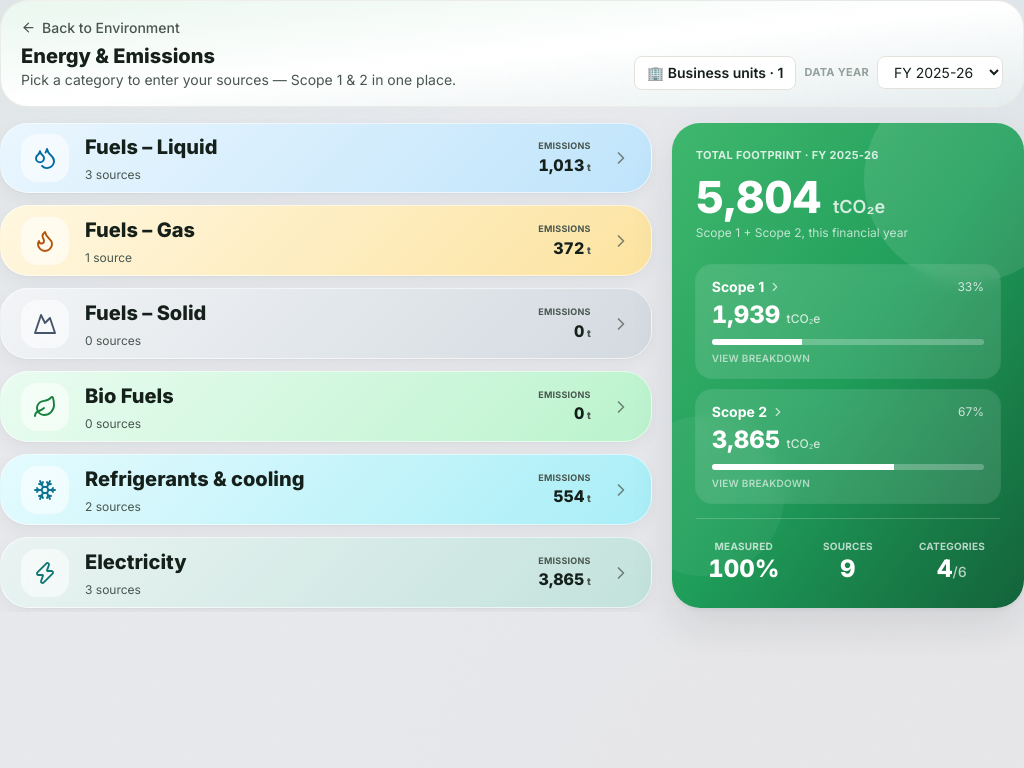
Scenario: ActivityDataTab — fuel entry shows all detail fields › fuel entry has two sections: Consumption and Asset details
The image size is (1024, 768).
Click the button "Fuels – Liquid": click(45, 158) [0,122,652,193]
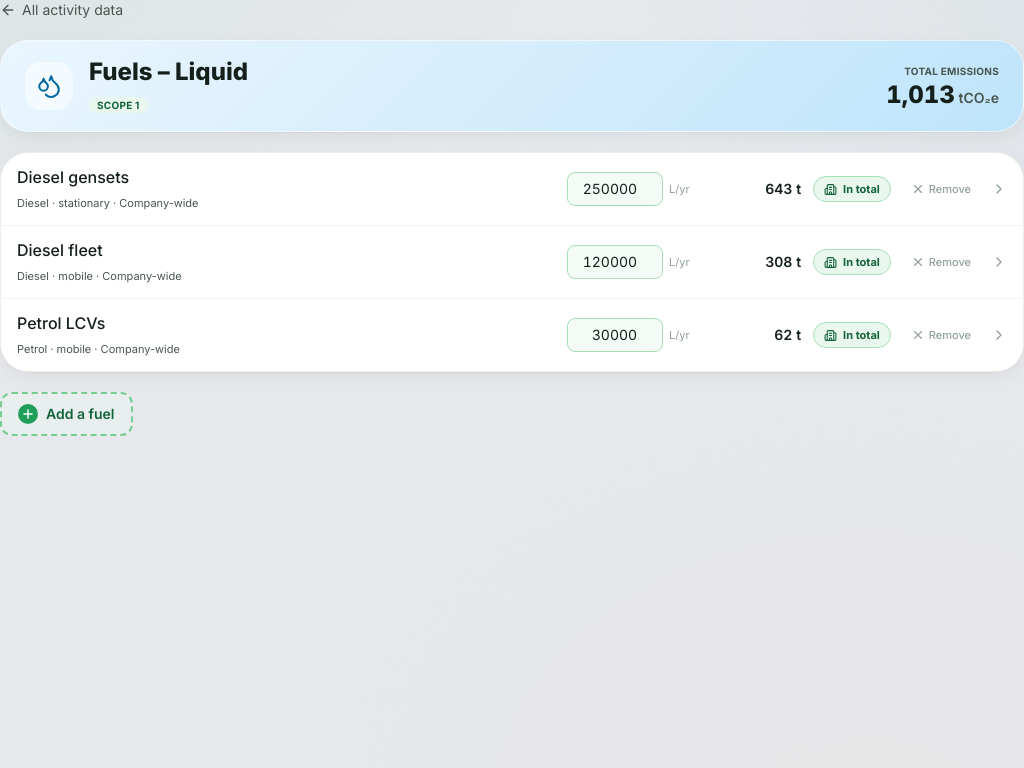
Click the button "Add a fuel": click(66, 414) [0,392,132,436]
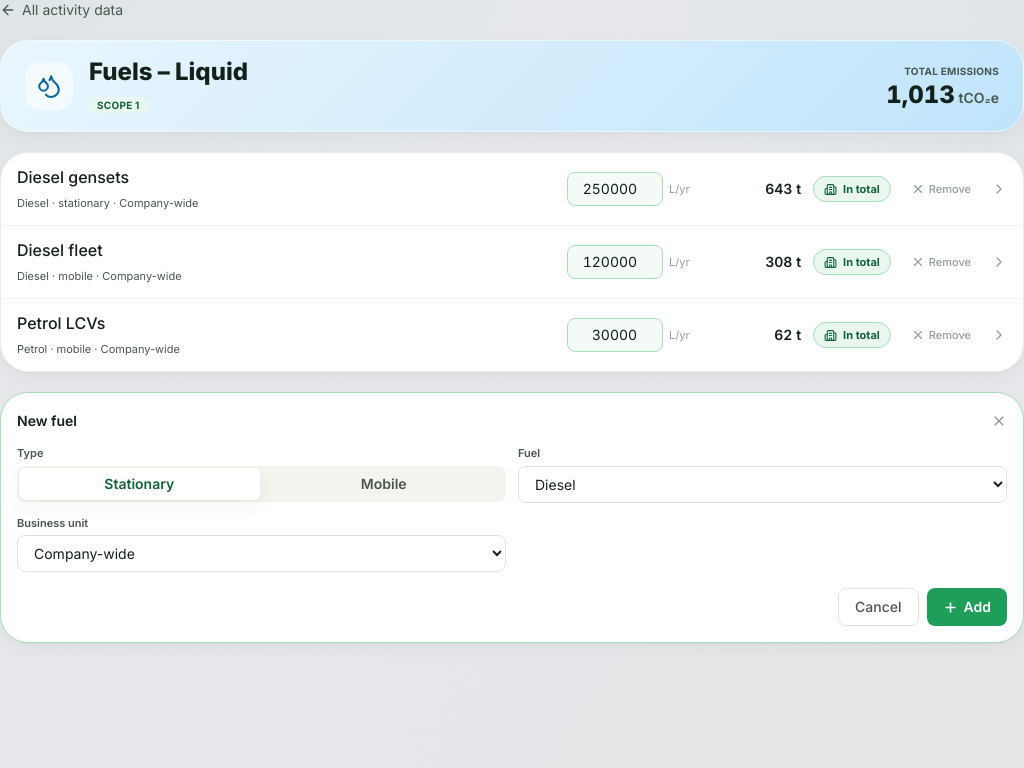
Click the button "Add": click(967, 607) [926,588,1007,626]
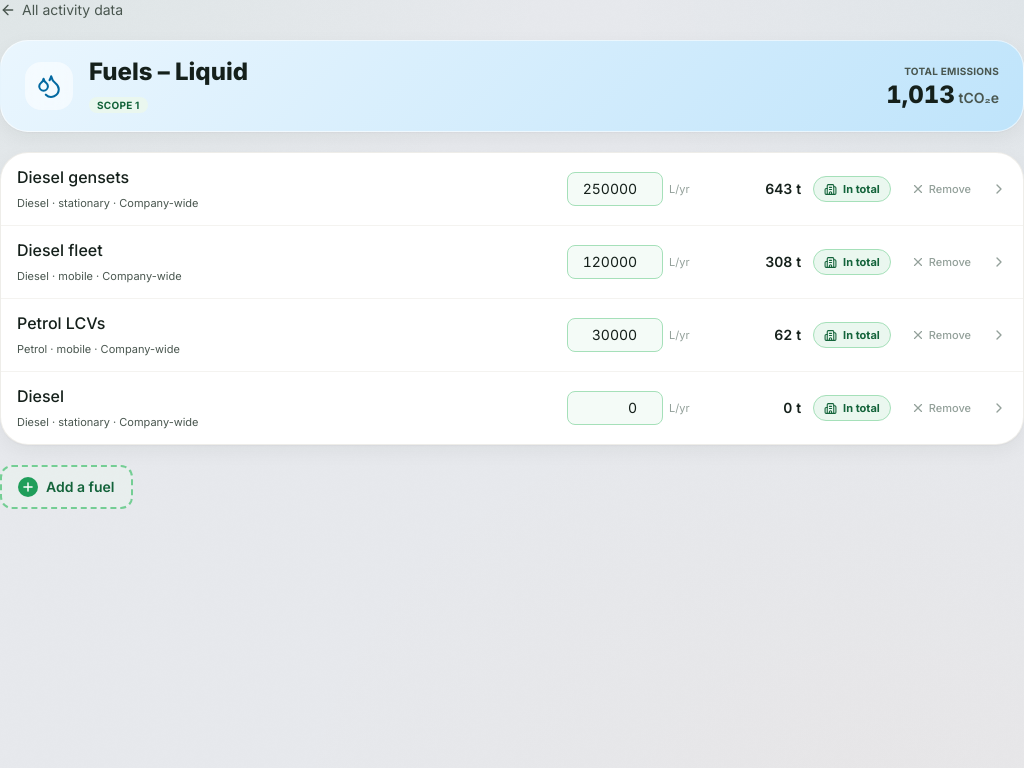
Click the text "Diesel": click(41, 396) [17,386,198,429]
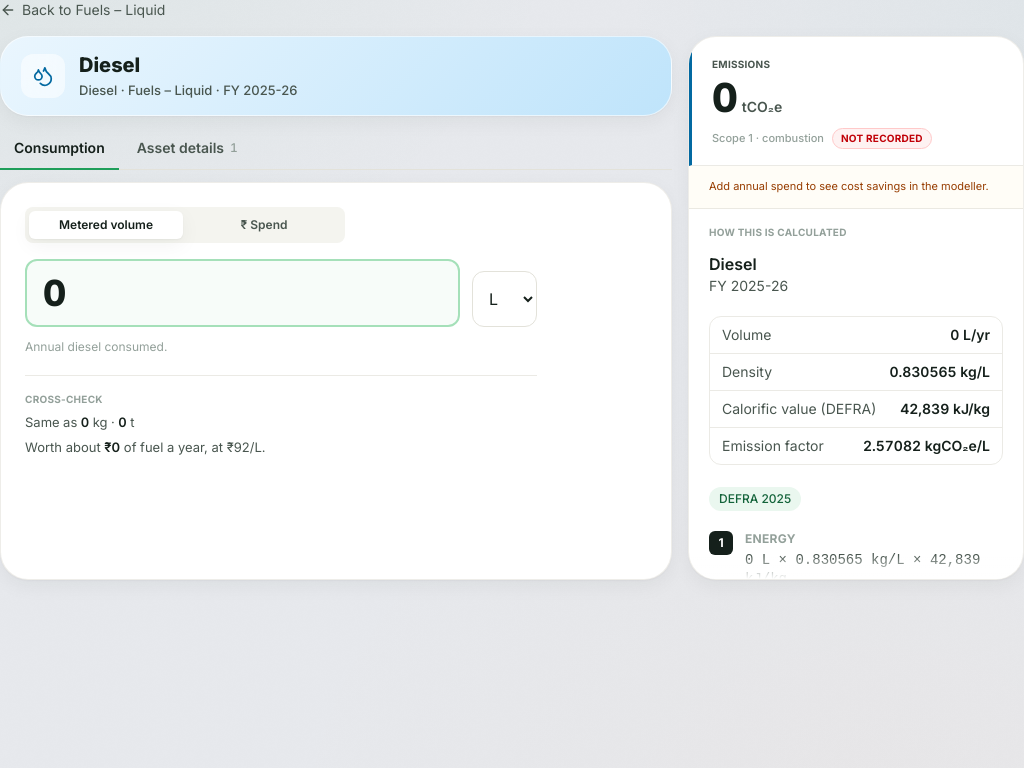
Check: the button "Metered volume" is shown, box [29,210,183,238]
Check: the tab "Consumption" is shown, box [0,128,119,170]
Check: the tab "Asset details 1" is shown
Click the tab "Asset details 1": click(187, 148) [123,128,252,170]
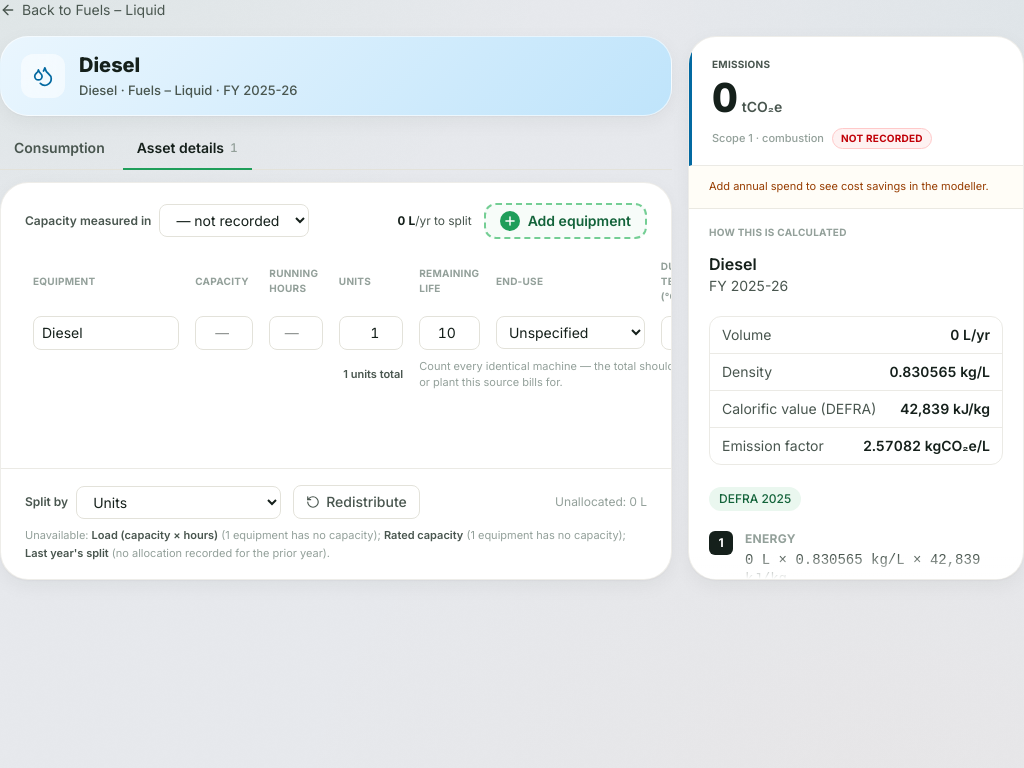
Check: the field labelled "Category" is not shown
Check: the number field named "Number of units" is shown, box [339,316,403,350]
Check: the number field named "Remaining life" is shown, box [419,316,480,350]
